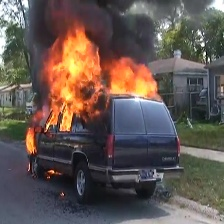fire: (43, 22, 160, 130), (21, 109, 40, 157)
